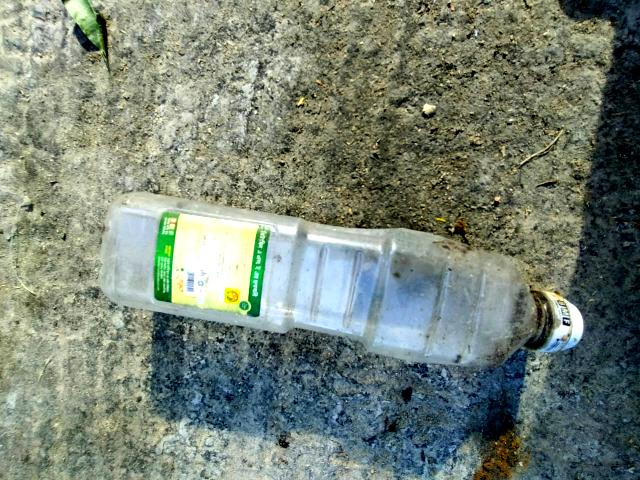bottle: (91, 180, 567, 396)
